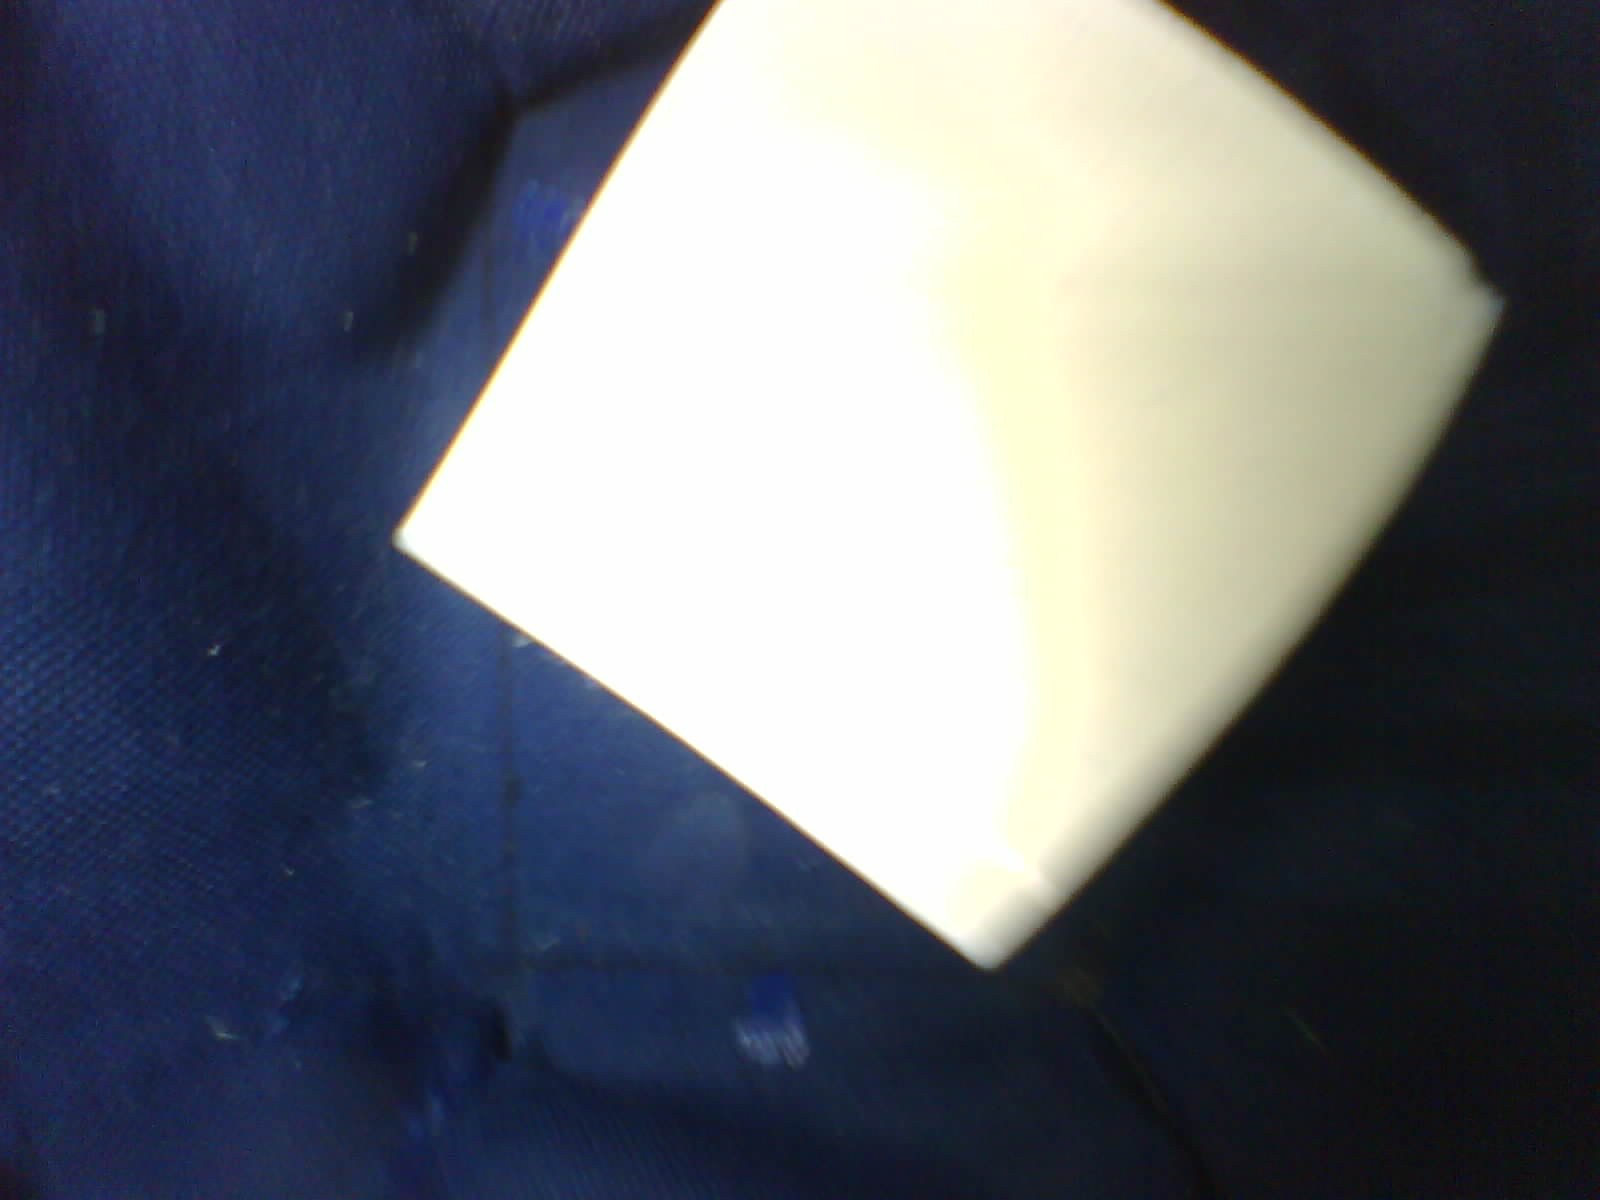cube-hard: (364, 0, 1529, 992)
